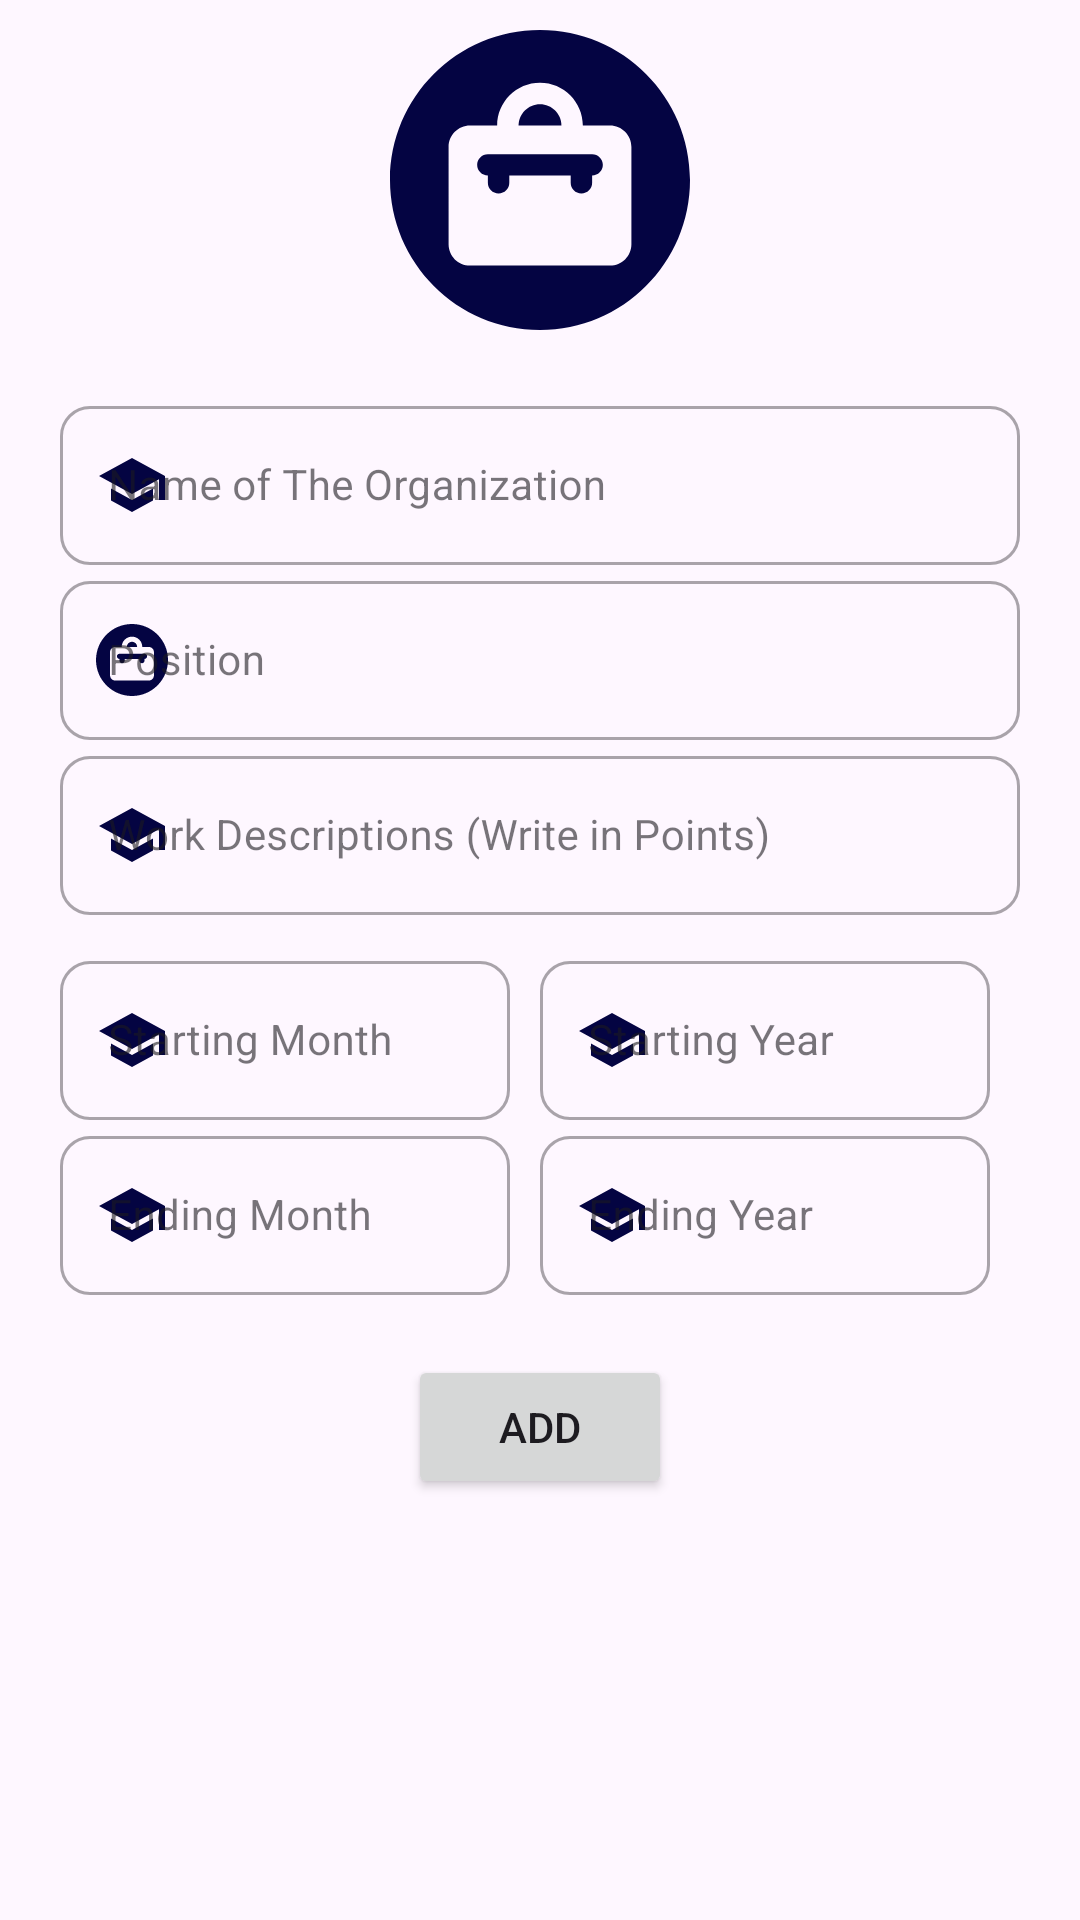

Point at icon controls on the screen. Image size 1080 × 1920, points as [x,y].
workexp: [540,180]
